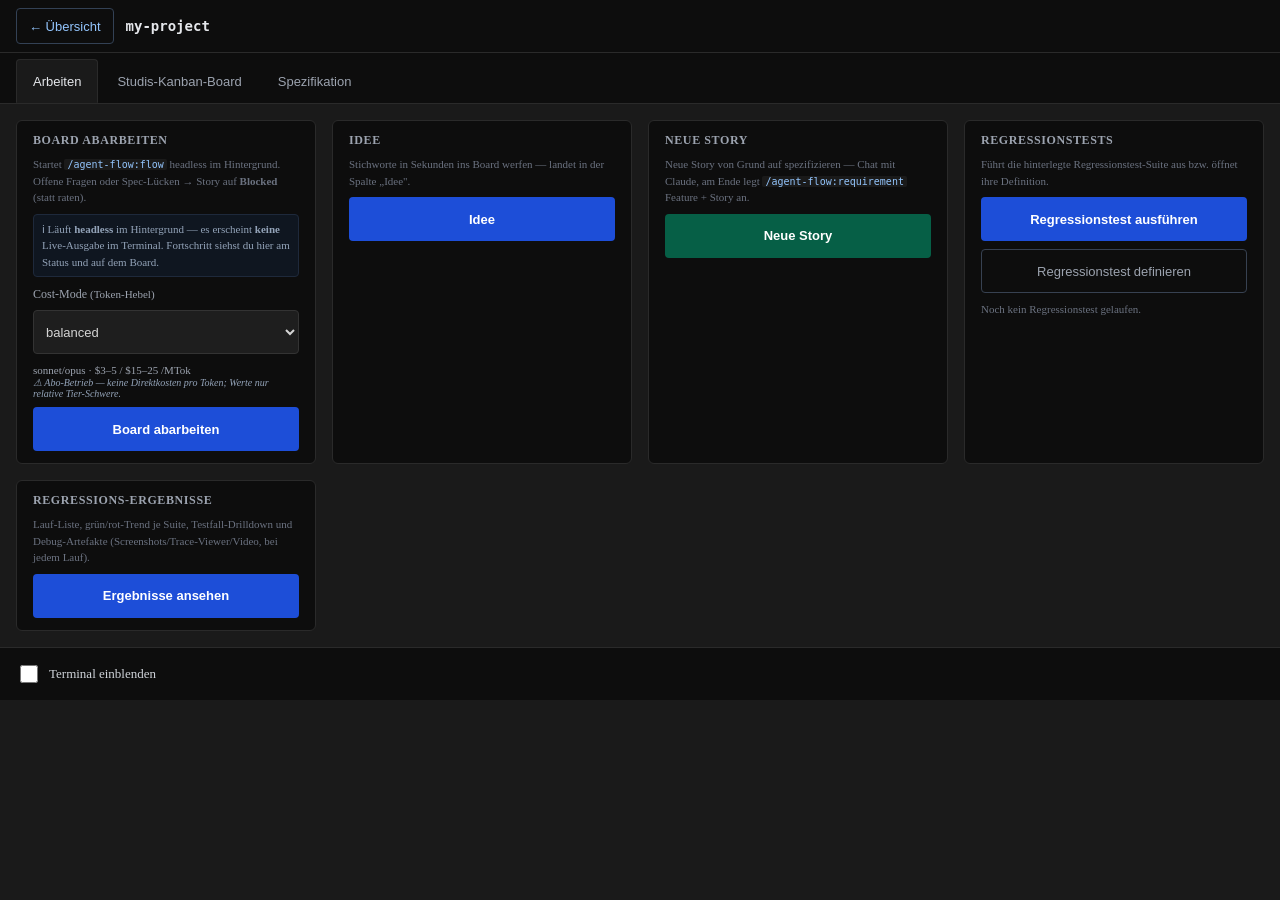
headless-manual-drain AC6 — Status-Feedback + Kein-Live-Terminal-Hinweis › after 202 + running poll → inline status shows „läuft" (text, not color alone)
Click the button with test id "flow-board-btn" at (166, 429), box [33,407,299,451]
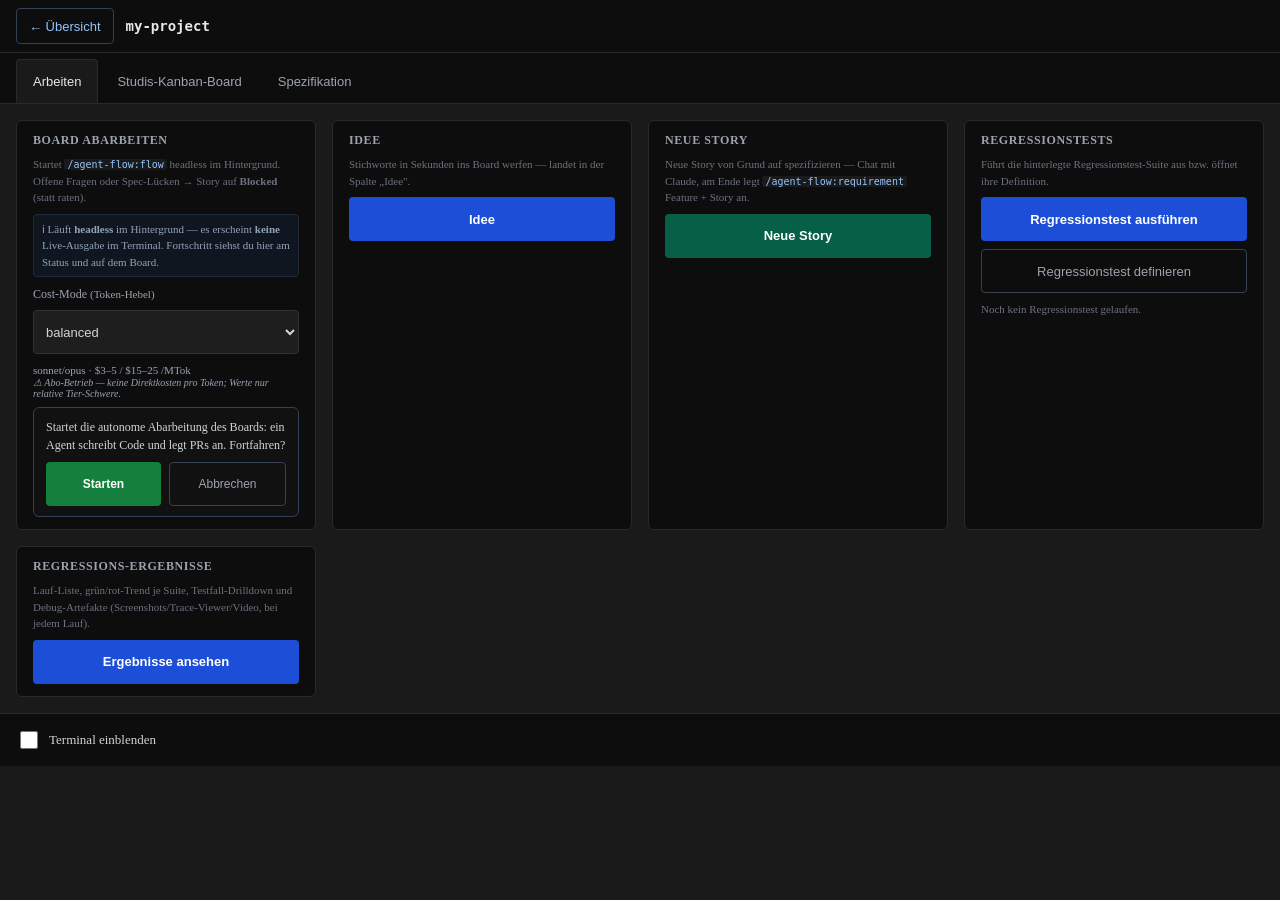
Click the button with test id "flow-confirm-yes" at (104, 484), box [46,462,161,506]
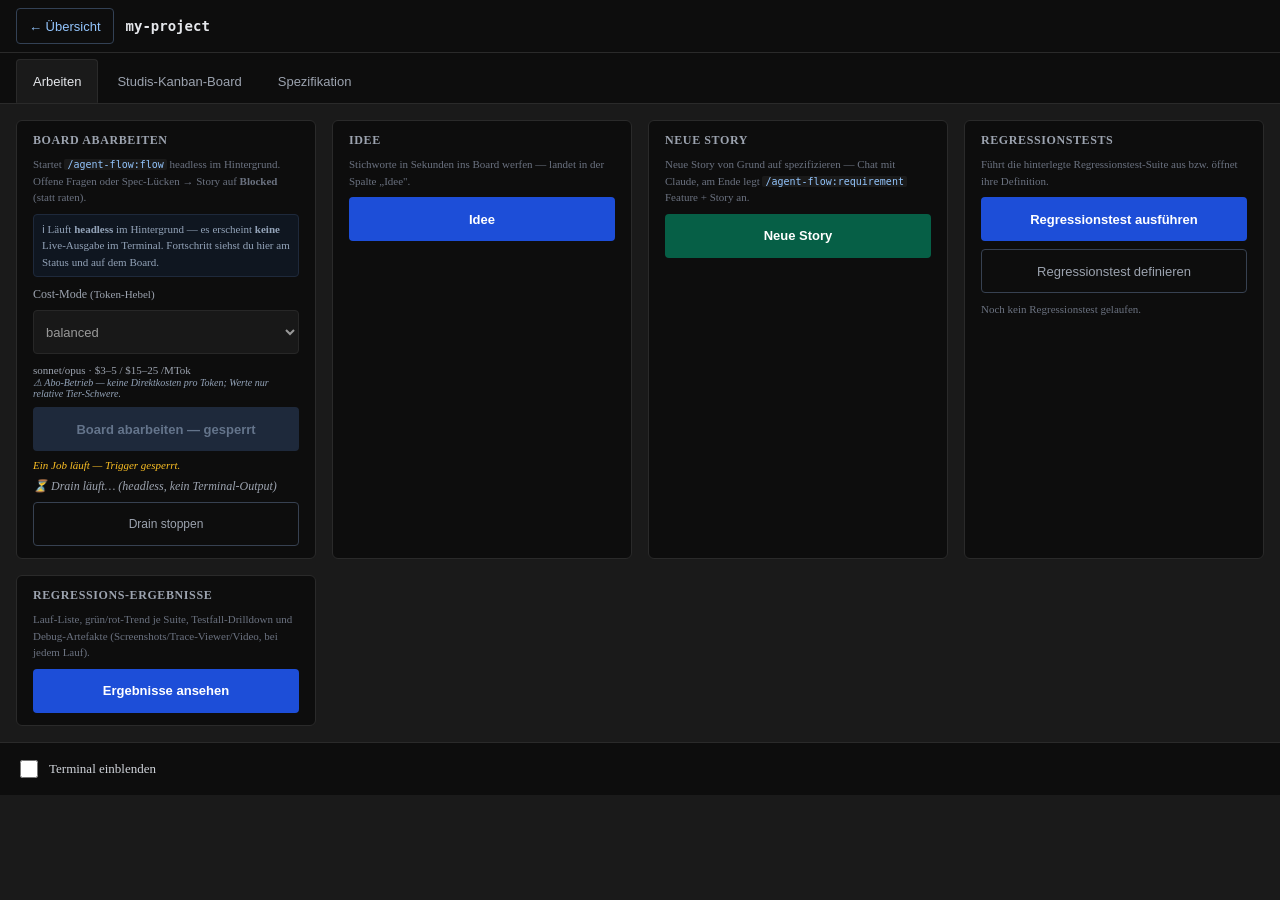
Expected: the message "⏳ Drain läuft… (headless, kein Terminal-Output)" is shown, [33,479,299,494]
Expected: the message with test id "drain-job-status" shows "läuft", [33,479,277,493]
